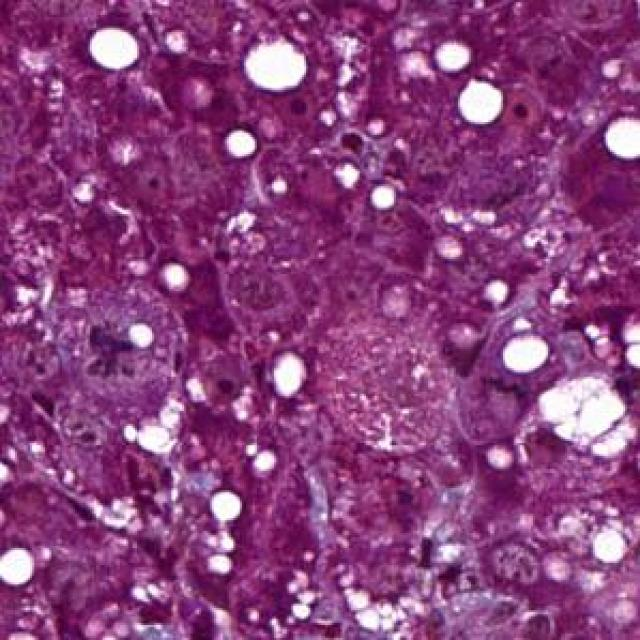ballooning: (533, 370, 640, 460)
